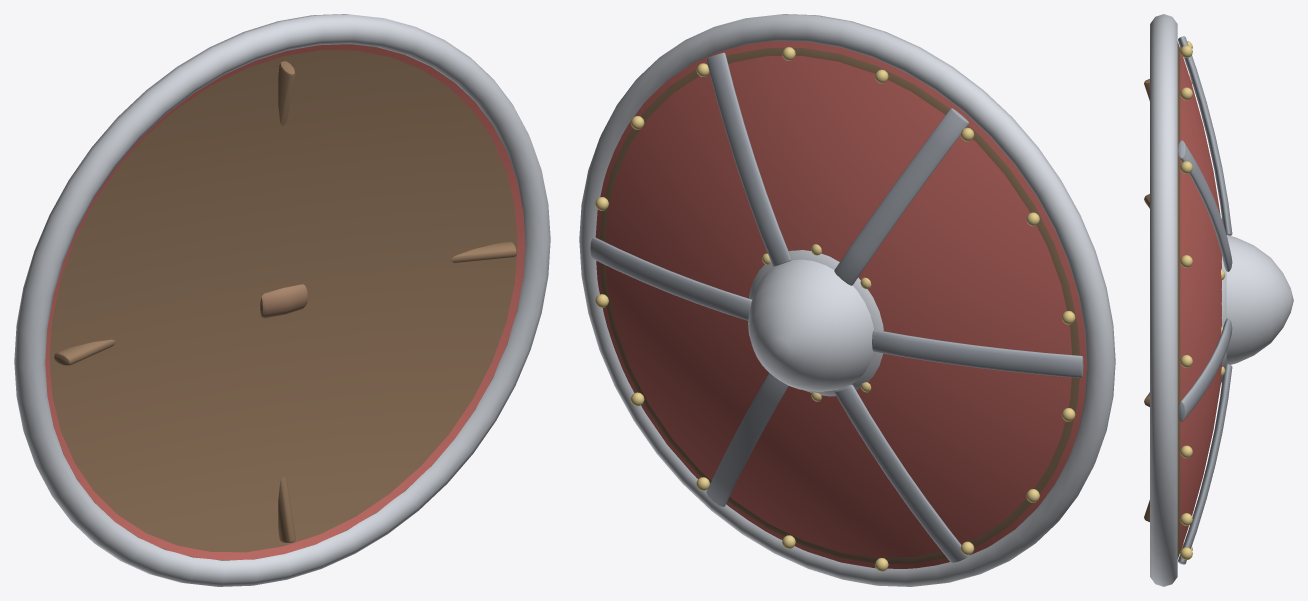
The model's file is th31_schild_rund.glb.
The picture shows the model from 3 angles, left to right: view 1: azimuth 30°, elevation 25°; view 2: azimuth 150°, elevation 25°; view 3: azimuth 270°, elevation 25°; orthographic projection. The views are drawn at different scales.
Parts seen in each view (by area): view 1: Dreh.001, Torus, Dreh, Rohr.007, Rohr.006, Rohr.009; view 2: Dreh, Torus, Dreh.002, Dreh.001, Rohr.004, Rohr.003, Rohr.005, Rohr.002, Rohr, Rohr.001; view 3: Torus, Dreh, Dreh.002, Dreh.001, Rohr.001, Rohr.004, Rohr.005, Rohr.
Part boxes in pixels (x1,y1,x2,y2): Dreh.001: [49, 44, 524, 560]; Torus: [14, 14, 550, 586]; Dreh: [45, 44, 525, 560]; Rohr.007: [278, 61, 295, 542]; Rohr.006: [54, 242, 516, 365]; Rohr.009: [260, 284, 307, 318]; Dreh: [595, 41, 1086, 568]; Torus: [579, 14, 1115, 586]; Dreh.002: [748, 250, 883, 396]; Dreh.001: [600, 48, 1079, 563]; Rohr.004: [834, 108, 968, 285]; Rohr.003: [872, 329, 1083, 378]; Rohr.005: [706, 52, 791, 266]; Rohr.002: [834, 384, 968, 562]; Rohr: [590, 237, 751, 320]; Rohr.001: [706, 373, 788, 506]; Torus: [1150, 14, 1177, 586]; Dreh: [1180, 49, 1221, 551]; Dreh.002: [1221, 235, 1293, 367]; Dreh.001: [1177, 42, 1180, 558]; Rohr.001: [1178, 364, 1232, 564]; Rohr.004: [1178, 36, 1232, 235]; Rohr.005: [1178, 140, 1232, 271]; Rohr: [1178, 318, 1232, 421].
Bounding box in the file's own units: 0.75 × 0.75 × 0.1958.
